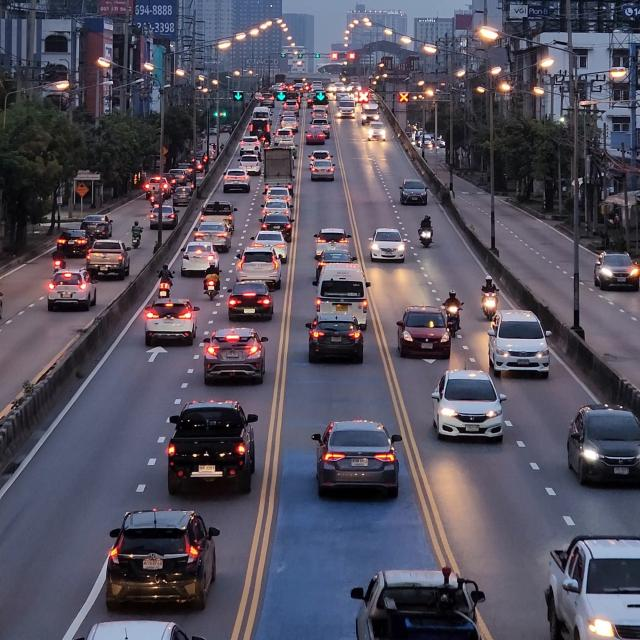Car: (105, 511, 220, 613), (171, 400, 259, 495), (316, 416, 400, 502), (566, 408, 640, 491), (434, 370, 506, 441), (486, 310, 553, 378), (393, 302, 457, 361), (204, 330, 270, 386), (317, 260, 371, 328), (304, 316, 368, 365), (147, 299, 198, 346), (592, 248, 640, 296), (46, 272, 100, 312), (226, 282, 279, 322), (181, 238, 225, 278), (88, 240, 129, 277), (372, 226, 409, 264)
